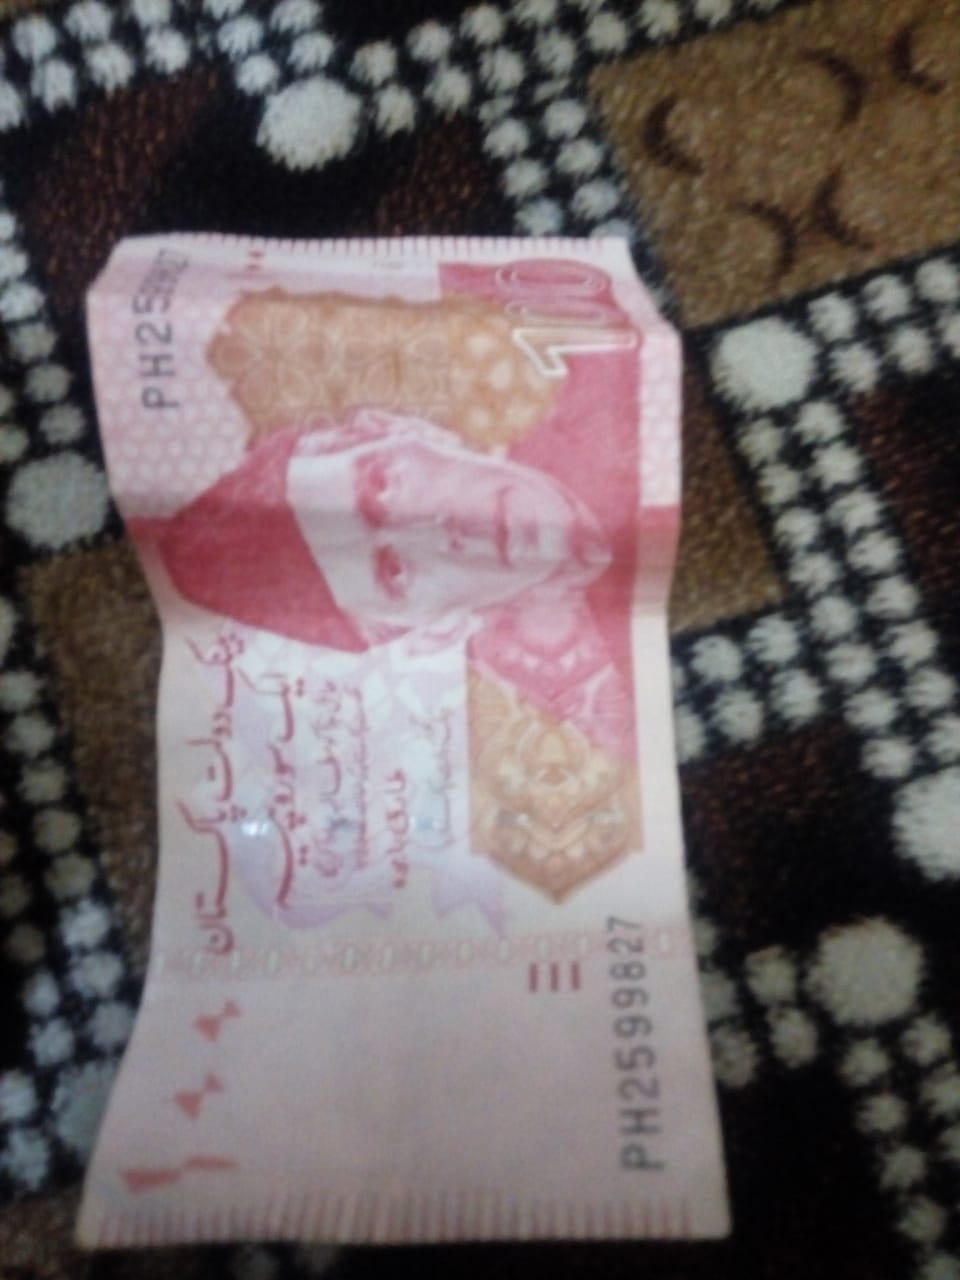100 rupee: (52, 169, 752, 1220)
